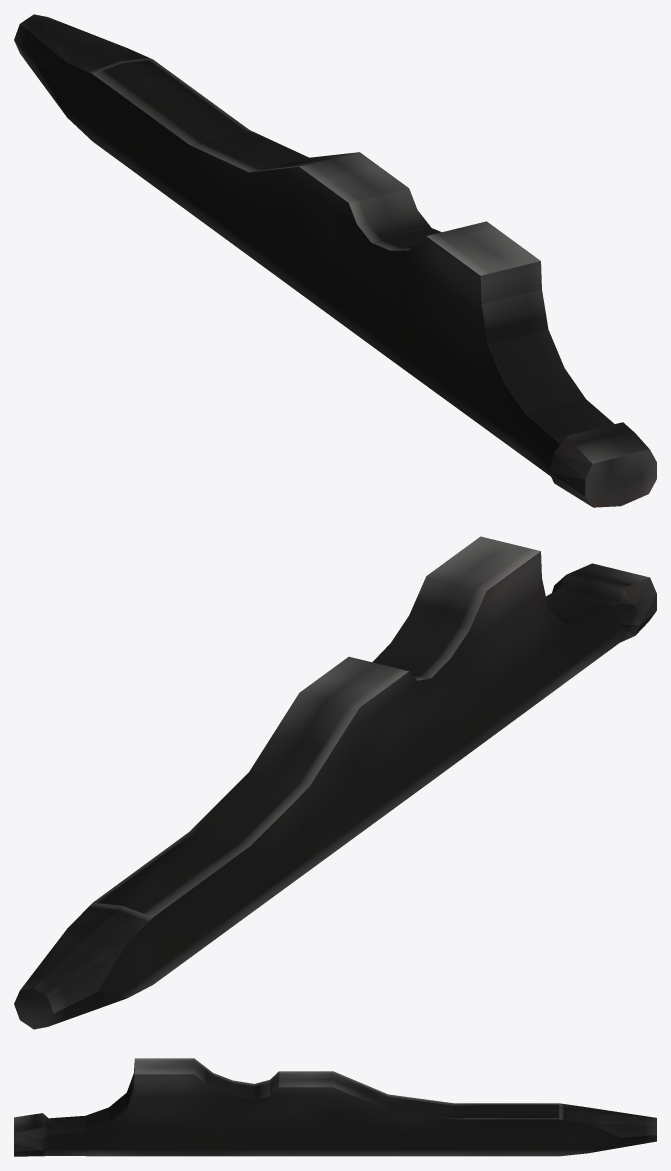
3 renders of one model, top to bottom at view 1: azimuth 30°, elevation 25°; view 2: azimuth 150°, elevation 25°; view 3: azimuth 270°, elevation 25°, orthographic. The views are drawn at different scales.
Parts seen in each view (by area): view 1: TW_64637076203536ad5600c990_PZ_Import; view 2: TW_64637076203536ad5600c990_PZ_Import; view 3: TW_64637076203536ad5600c990_PZ_Import.
Part boxes in pixels (x1,y1,x2,y2): TW_64637076203536ad5600c990_PZ_Import: [14, 14, 656, 507]; TW_64637076203536ad5600c990_PZ_Import: [14, 536, 656, 1029]; TW_64637076203536ad5600c990_PZ_Import: [14, 1058, 656, 1156].
Bounding box in the file's own units: 0.00312 × 0.0347 × 0.00512.
Materials: 1 (1 with a texture image).
